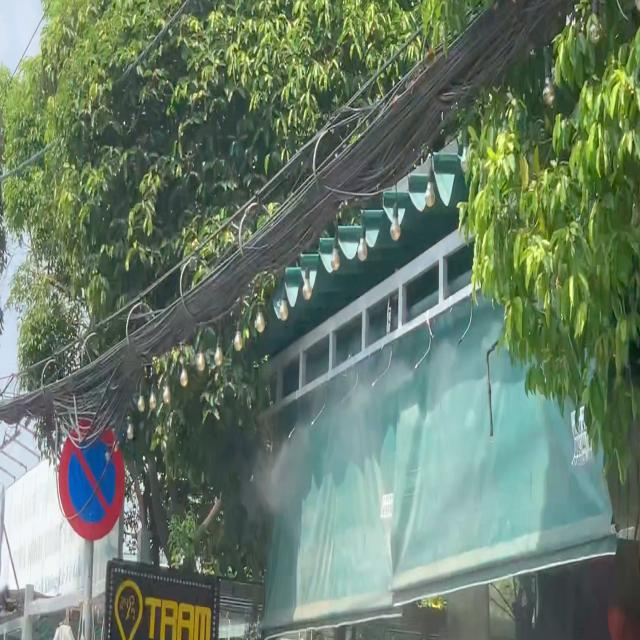Cam do: (57, 418, 126, 544)
